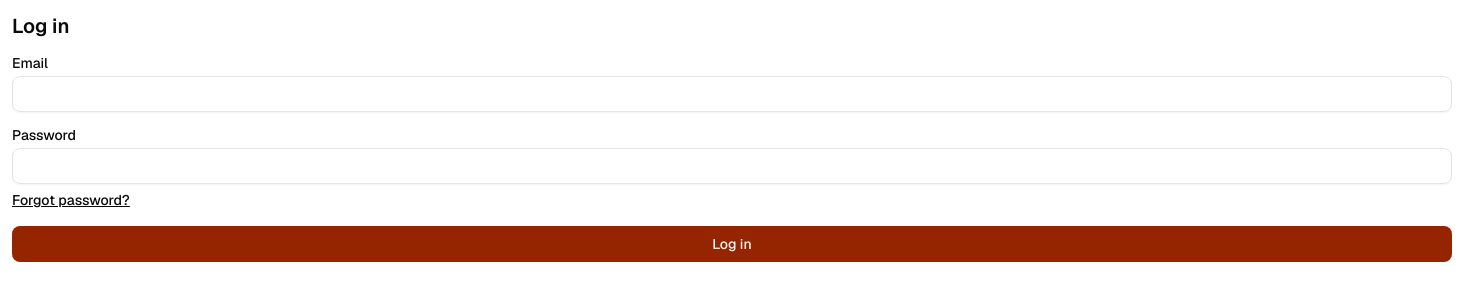
Test: LoginForm › announces the invalid-email field error via role=alert, linked to the input via aria-describedby
The width and height of the screenshot is (1464, 305).
Type "not-an-email" into the field labelled "Email".
click(732, 94); type("not-an-email")  # box [12,76,1452,112]
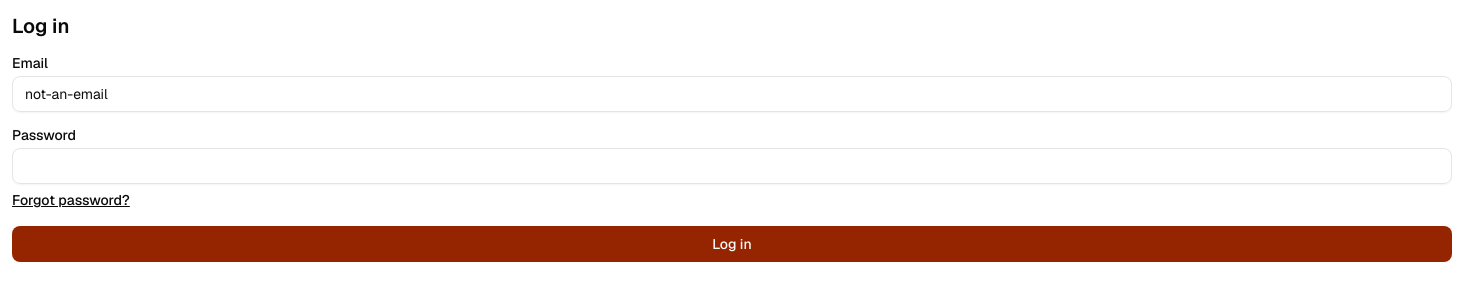
Type "somepassword" into the password field labelled "Password".
click(732, 166); type("somepassword")  # box [12,148,1452,184]
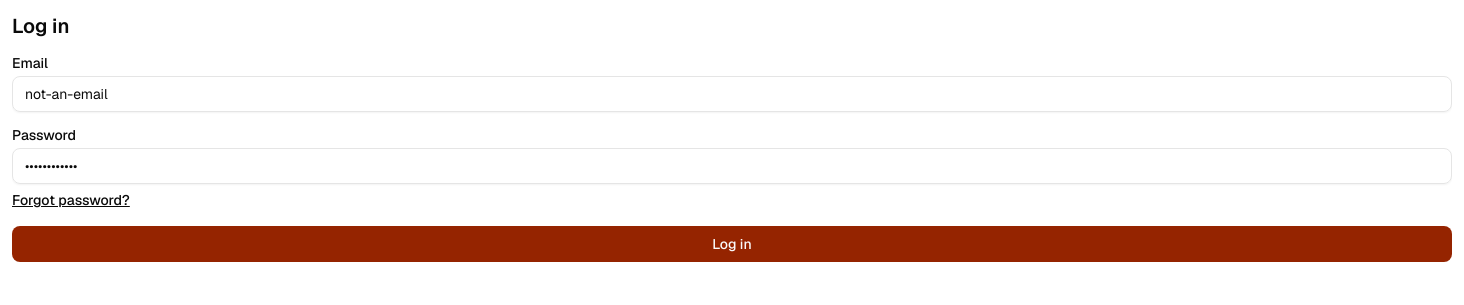
Click the button "Log in".
click(732, 244)  # box [12,226,1452,262]
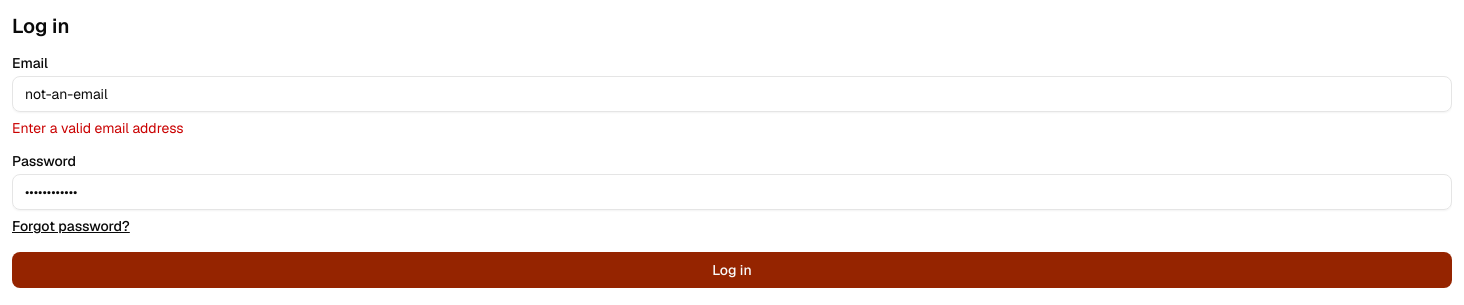
Check: the message reads "Enter a valid email address", box [12,119,184,137]
